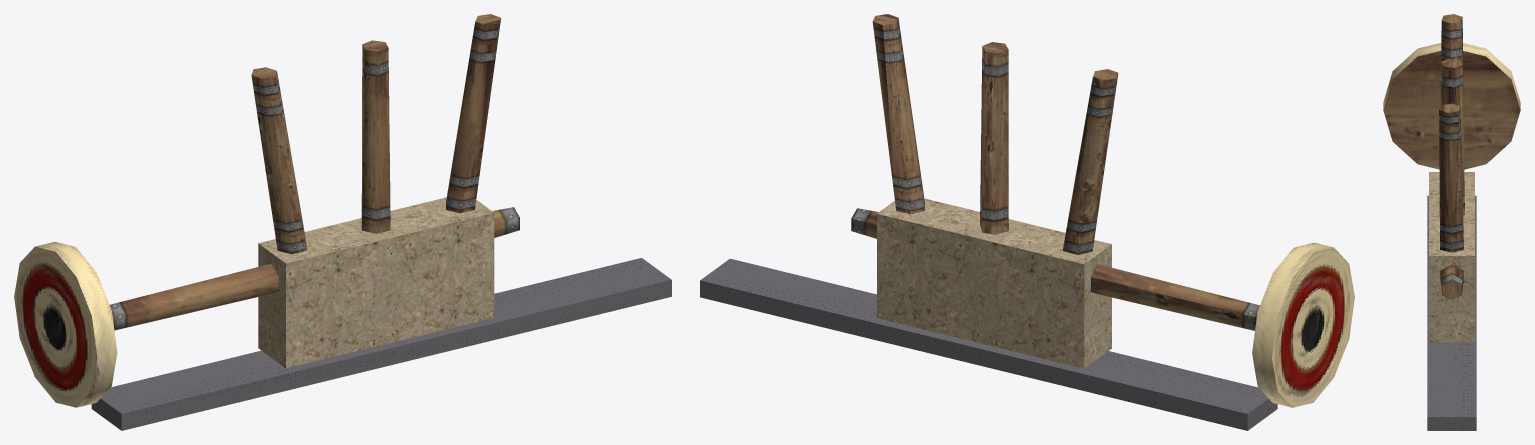
The model's file is P_Modul_01.FBX.
3 views of the same model, side by side, from view 1: azimuth 30°, elevation 25°; view 2: azimuth 150°, elevation 25°; view 3: azimuth 270°, elevation 25° (orthographic). The views are drawn at different scales.
Parts seen in each view (by area): view 1: P_Modul_01_Pusher, P_Modul_01_Rinne, P_Modul_01_P6, P_Modul_01_P3, P_Modul_01_P2, P_Modul_01_P1, P_Modul_01_P5, P_Modul_01_P4; view 2: P_Modul_01_Pusher, P_Modul_01_Rinne, P_Modul_01_P6, P_Modul_01_P3, P_Modul_01_P2, P_Modul_01_P1, P_Modul_01_P5, P_Modul_01_P4; view 3: P_Modul_01_P6, P_Modul_01_Pusher, P_Modul_01_Rinne, P_Modul_01_P3, P_Modul_01_P2, P_Modul_01_P1, P_Modul_01_P4.
Boxes of the visible parts, bbox=[...] form: P_Modul_01_Pusher: bbox=[258, 197, 494, 368]; P_Modul_01_Rinne: bbox=[91, 258, 671, 430]; P_Modul_01_P6: bbox=[14, 241, 117, 407]; P_Modul_01_P3: bbox=[446, 14, 500, 213]; P_Modul_01_P2: bbox=[361, 40, 390, 233]; P_Modul_01_P1: bbox=[251, 67, 306, 254]; P_Modul_01_P5: bbox=[109, 263, 279, 330]; P_Modul_01_P4: bbox=[492, 207, 519, 237]; P_Modul_01_Pusher: bbox=[877, 198, 1111, 368]; P_Modul_01_Rinne: bbox=[700, 258, 1277, 430]; P_Modul_01_P6: bbox=[1252, 242, 1354, 407]; P_Modul_01_P3: bbox=[872, 14, 924, 214]; P_Modul_01_P2: bbox=[980, 42, 1008, 234]; P_Modul_01_P1: bbox=[1062, 69, 1118, 255]; P_Modul_01_P5: bbox=[1091, 264, 1259, 330]; P_Modul_01_P4: bbox=[851, 208, 878, 238]; P_Modul_01_P6: bbox=[1383, 43, 1520, 169]; P_Modul_01_Pusher: bbox=[1429, 172, 1474, 342]; P_Modul_01_Rinne: bbox=[1427, 195, 1476, 430]; P_Modul_01_P3: bbox=[1439, 103, 1463, 252]; P_Modul_01_P2: bbox=[1440, 58, 1464, 215]; P_Modul_01_P1: bbox=[1441, 14, 1463, 95]; P_Modul_01_P4: bbox=[1440, 265, 1463, 300].
Bounding box in the file's own units: 15 × 7.36 × 3.6.
Materials: 4 (4 with a texture image).
